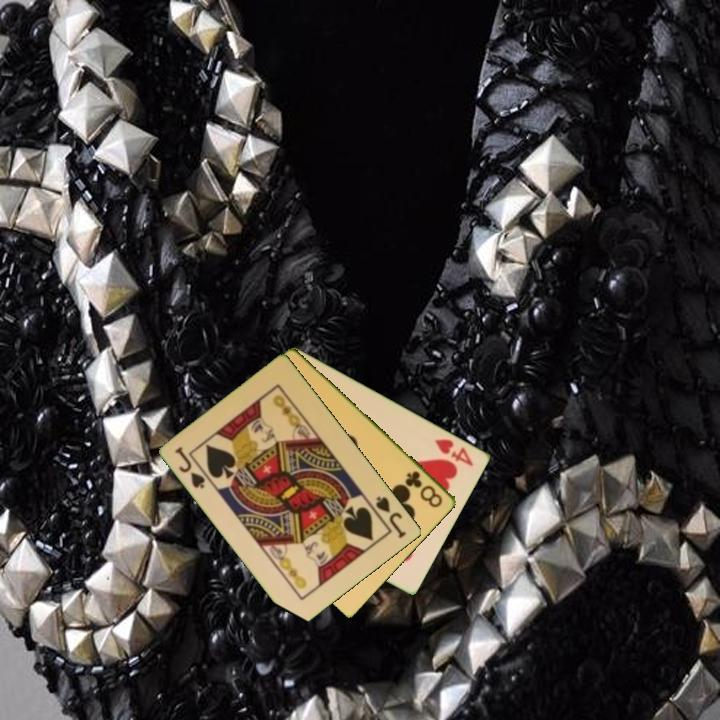4h: (431, 435, 477, 469)
8c: (402, 467, 446, 511)
Js: (372, 492, 409, 541), (171, 443, 208, 491)
